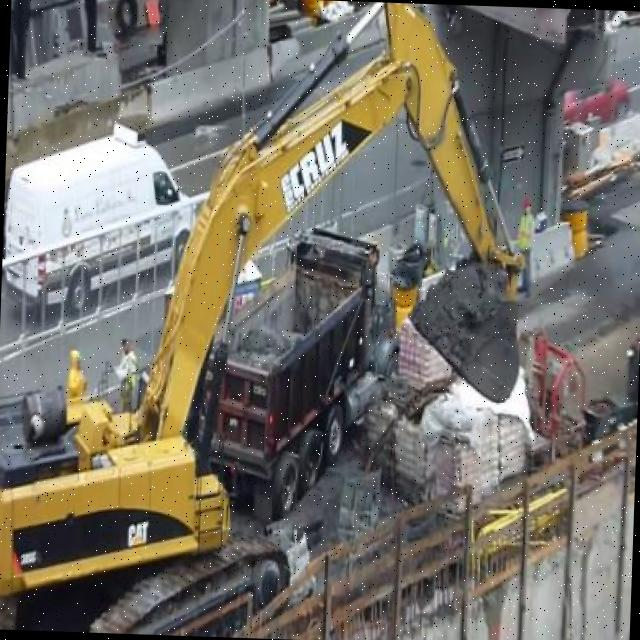Dump Truck: (192, 220, 404, 526)
Excavator: (0, 0, 533, 640)
